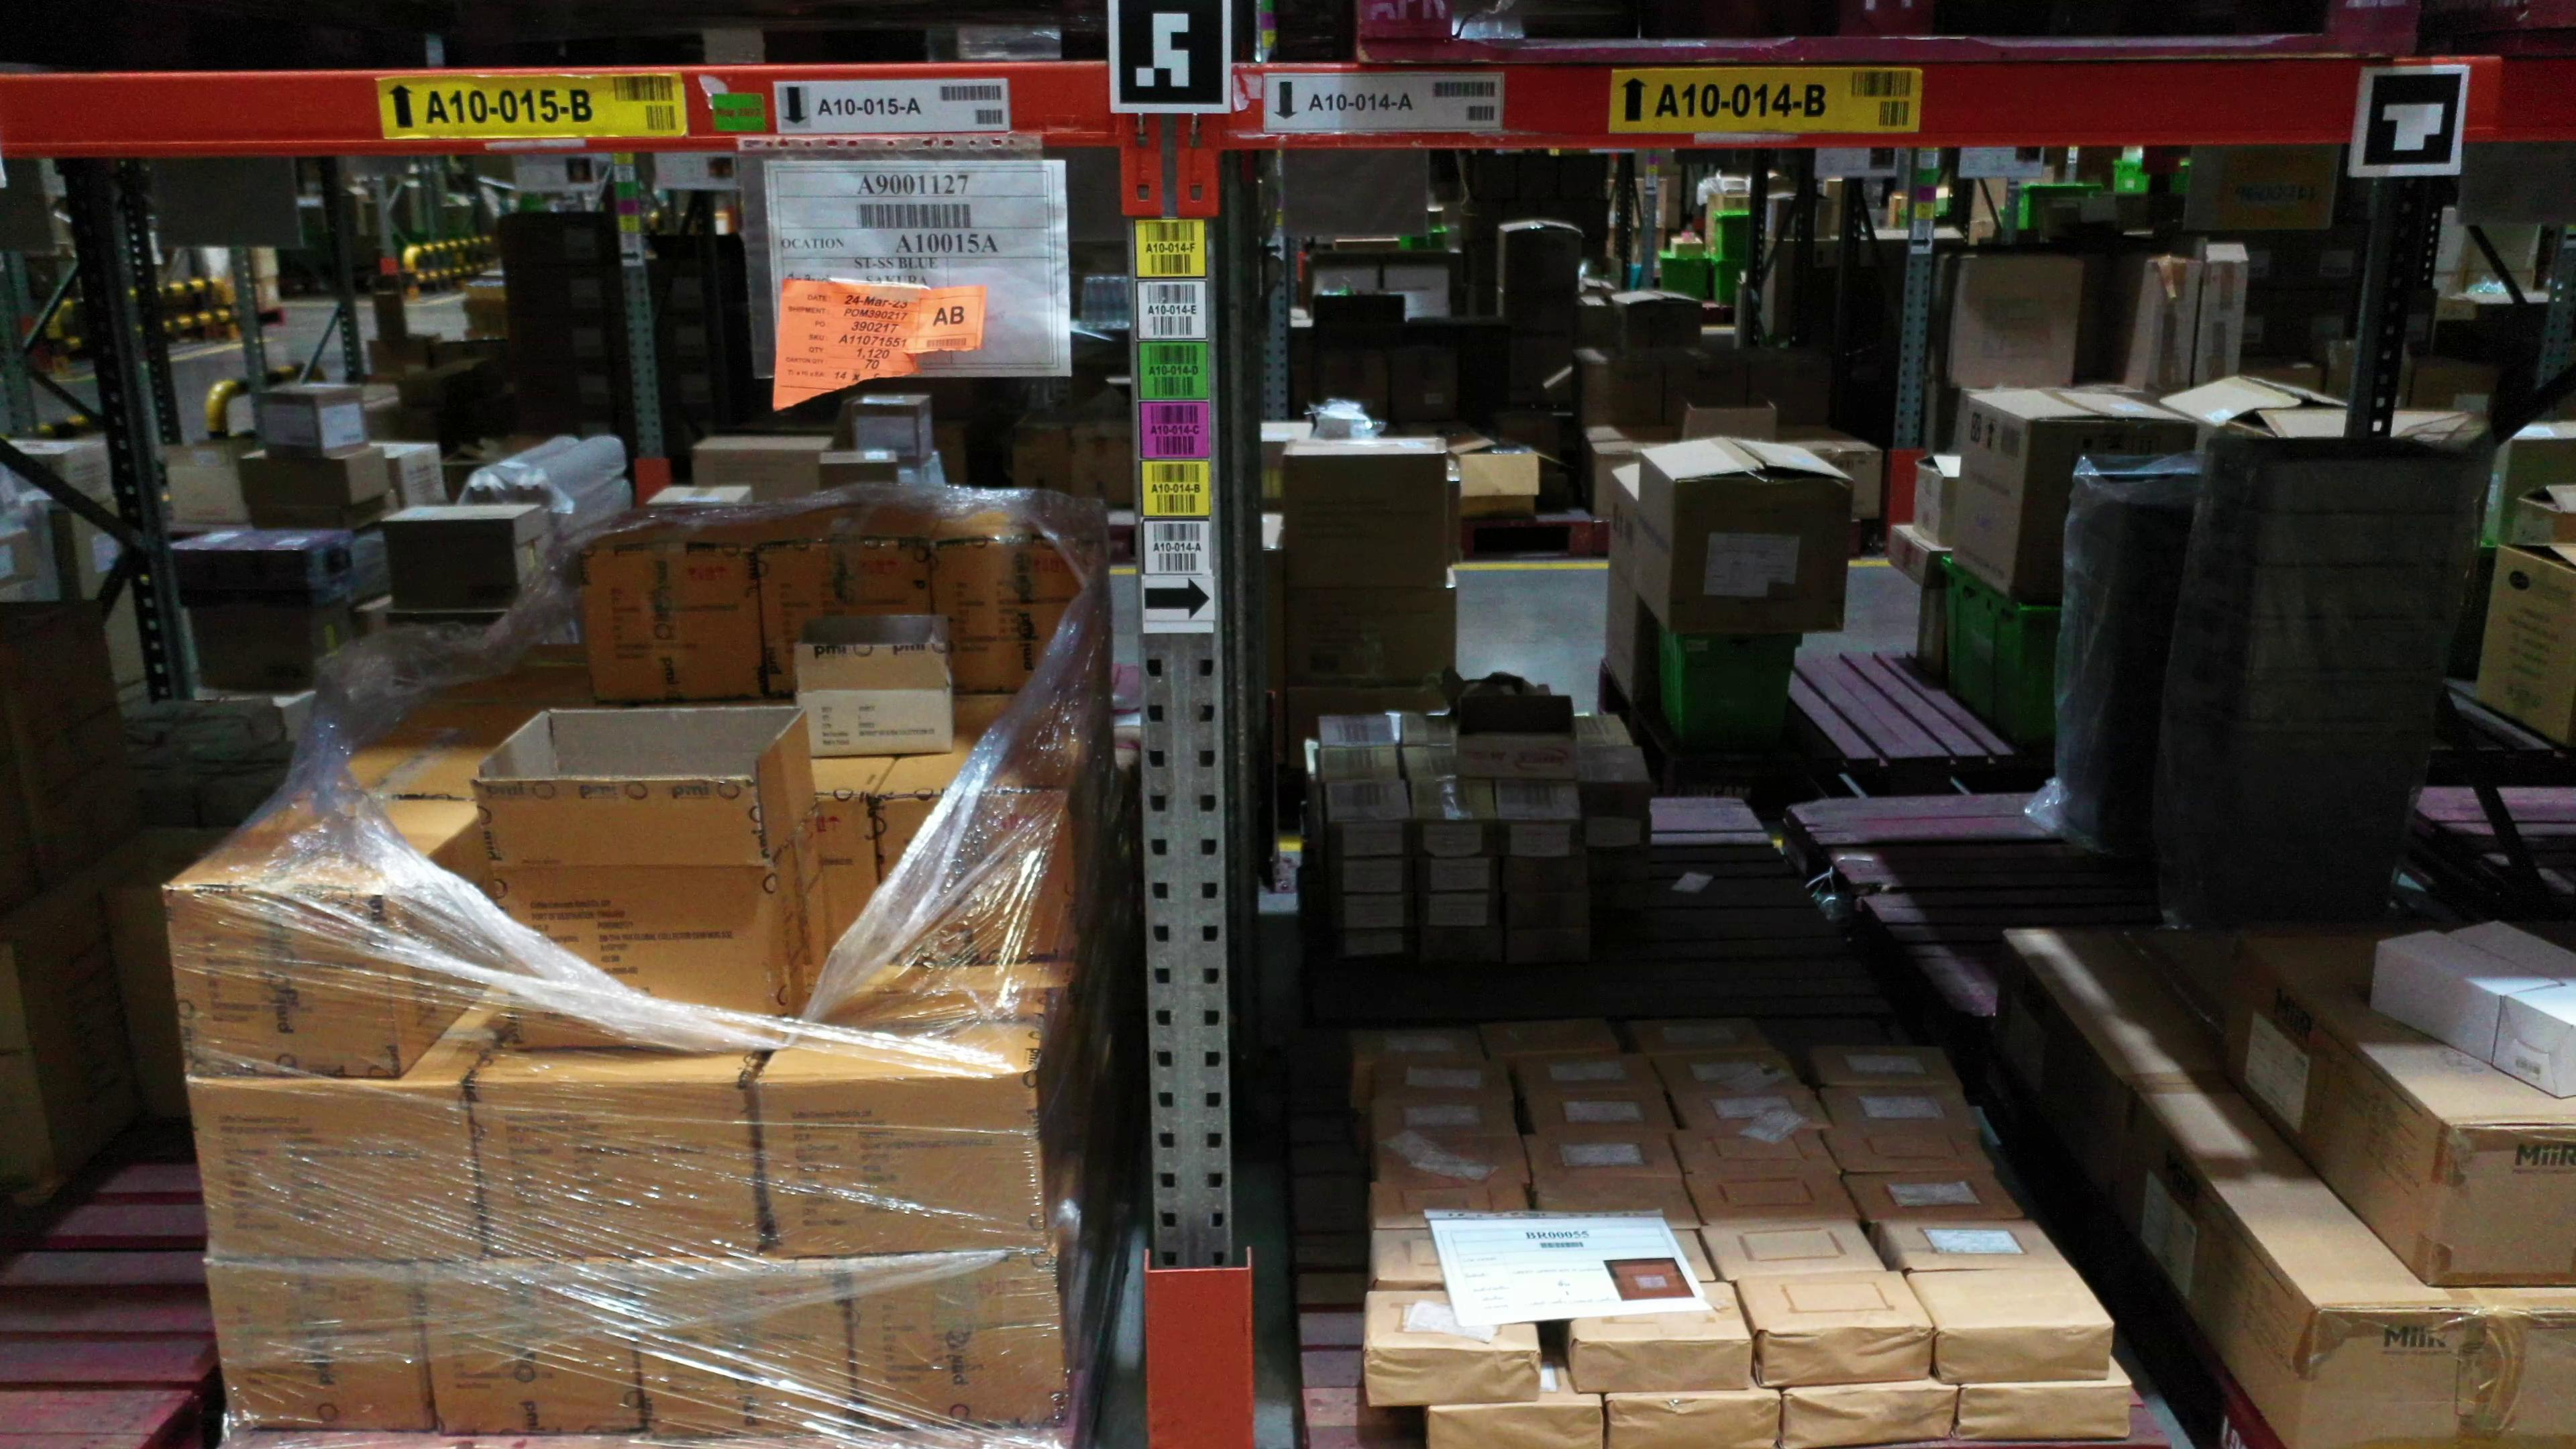-: (188, 1079, 488, 1263), (467, 1079, 764, 1263), (494, 862, 778, 1051), (757, 1074, 1047, 1256), (159, 888, 403, 1083), (628, 1256, 858, 1438), (842, 1249, 1065, 1431), (2295, 1306, 2576, 1449), (205, 1260, 435, 1435), (421, 1261, 644, 1438), (872, 787, 1076, 966), (584, 545, 770, 704), (761, 543, 932, 694), (934, 541, 1100, 694), (2426, 1120, 2576, 1288), (798, 642, 952, 755), (1782, 1385, 1957, 1449), (1362, 1346, 1541, 1407), (1762, 1323, 1934, 1385), (1951, 1382, 2130, 1438), (1937, 1323, 2109, 1382), (1573, 1338, 1752, 1392), (1603, 1394, 1782, 1449), (1426, 1405, 1610, 1449)
box: (1458, 727, 1575, 782), (1327, 819, 1412, 862), (1412, 819, 1500, 860), (1414, 892, 1506, 931), (1327, 858, 1414, 897), (1325, 895, 1415, 932), (1414, 856, 1502, 893), (1500, 819, 1582, 858), (1506, 855, 1587, 892), (1507, 892, 1587, 929), (1417, 929, 1504, 962), (1507, 929, 1591, 961), (1582, 816, 1652, 853), (1578, 782, 1651, 816), (1325, 931, 1414, 957), (1589, 853, 1651, 881), (1591, 879, 1649, 908)
